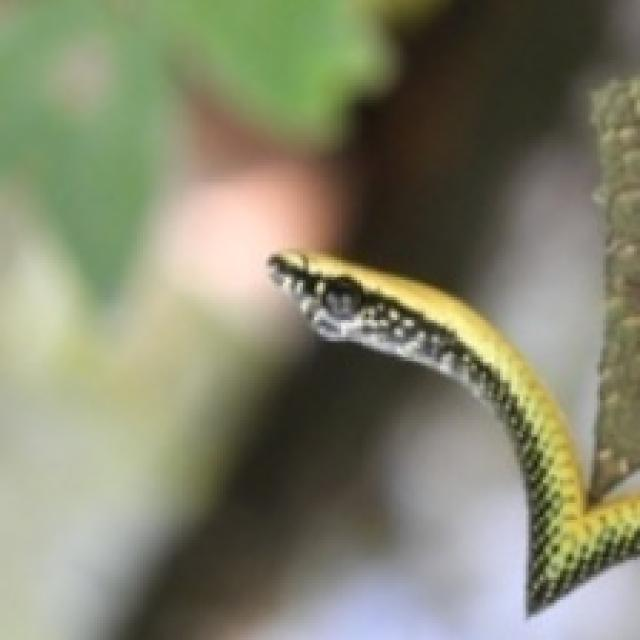paradise tree snake: (272, 254, 640, 612)
